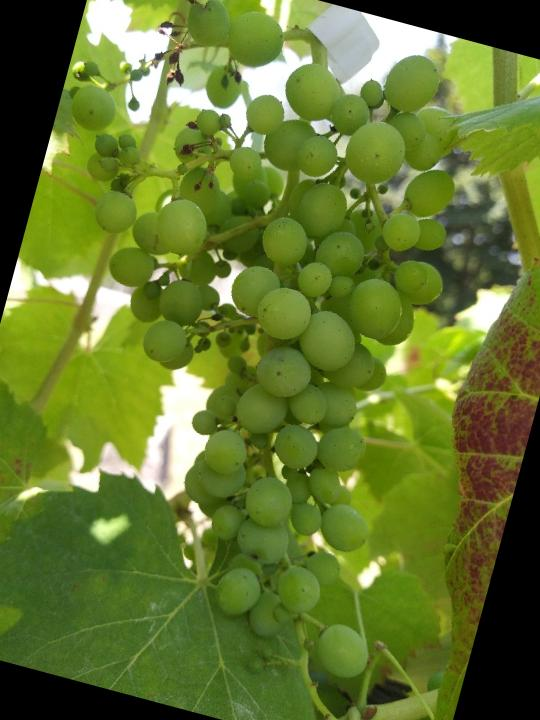grape: (0, 0, 525, 690)
